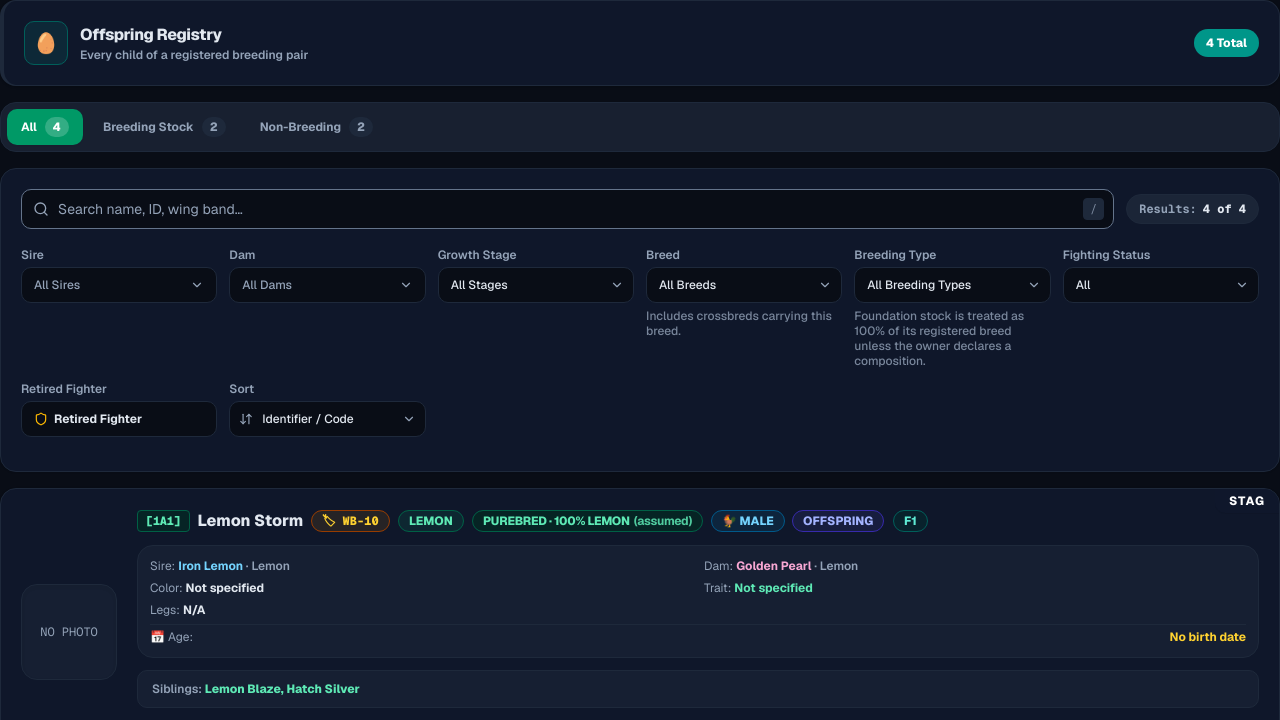
Test: Offspring Breeding Classification & Fighting Status Registry › switches to Breeding Stock classification and updates list and results count
This screenshot has width=1280, height=720.
Click the tab "Breeding Stock 2" at (164, 127), box [89,109,240,145]
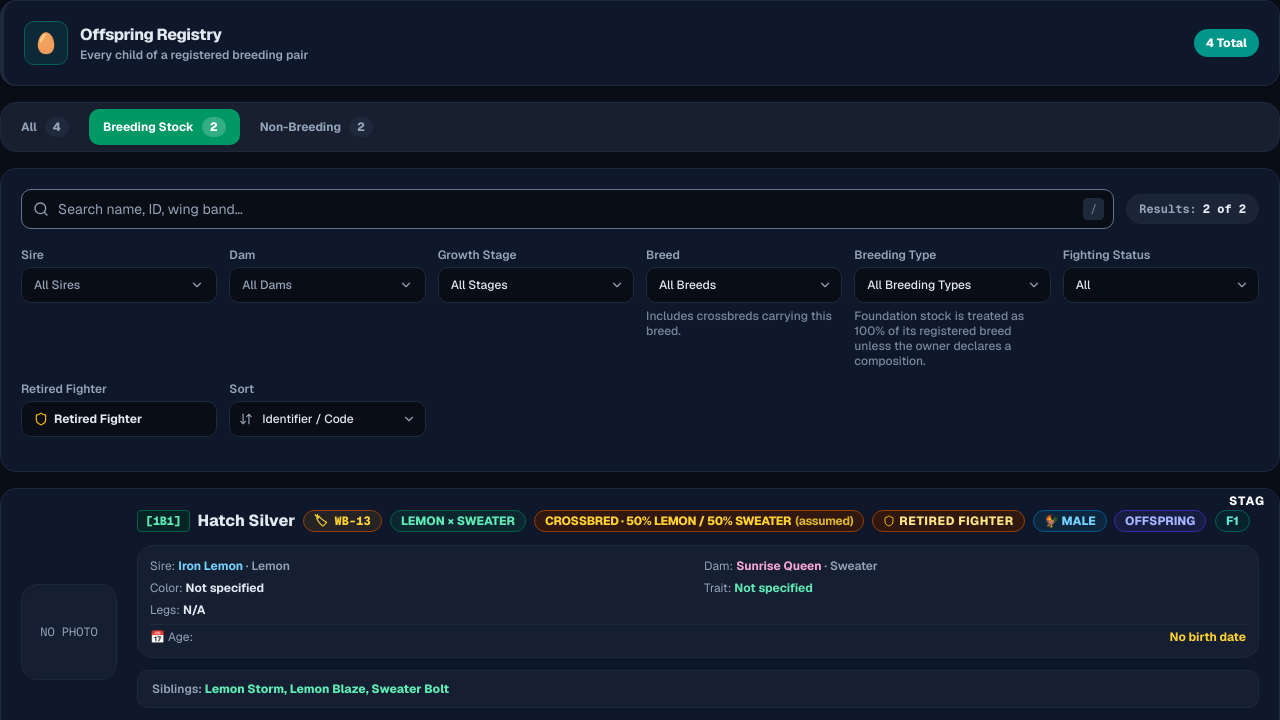
Expected: the heading "[1B1] Hatch Silver" is shown, [137,509,295,533]
Result: the text "2 of 2" is shown at [1203,201,1246,217]
